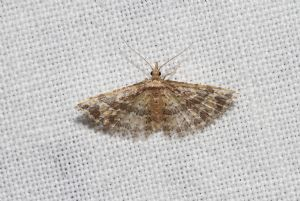Alucitidae: (70, 38, 238, 139)
moth: (70, 38, 238, 139)
